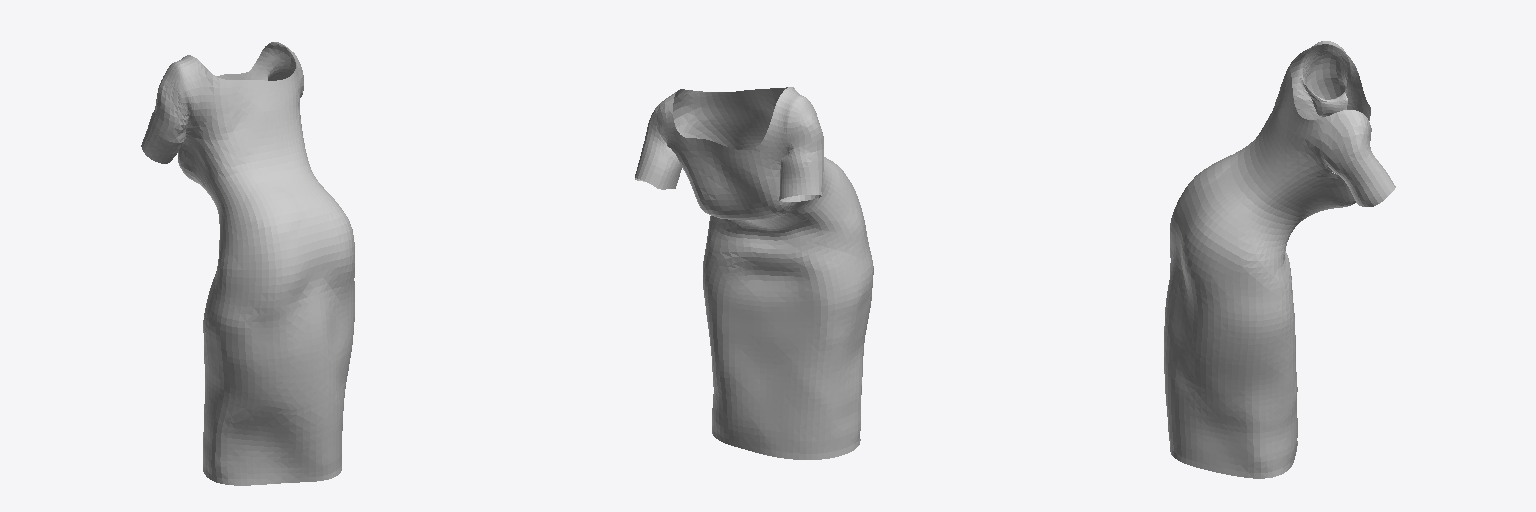
Rendered from amandaToPositionDress10_01.OBJ.
3 renders of one model, left to right at view 1: azimuth 30°, elevation 25°; view 2: azimuth 150°, elevation 25°; view 3: azimuth 270°, elevation 25°, orthographic.
Parts seen in each view (by area): view 1: Group4264; view 2: Group4264; view 3: Group4264.
Part boxes in pixels (x1,y1,x2,y2): Group4264: (141,42,354,485); Group4264: (635,87,873,459); Group4264: (1164,41,1395,478).
Size of the model in its own units: 0.054 by 0.1197 by 0.0654.